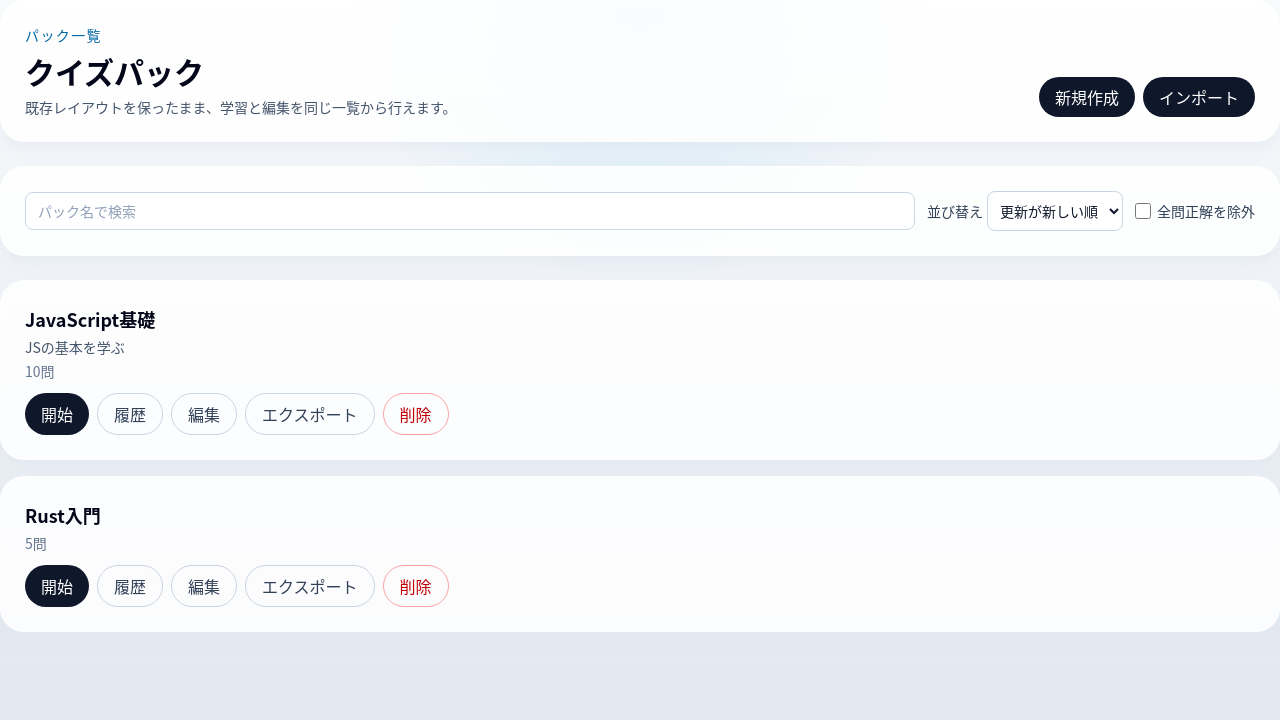
Test: HomePage › インポート機能 › 重複パック検出時に更新確認ダイアログが表示される
Click the button "インポート". click: click(1199, 97)
box: [1143,77,1255,117]
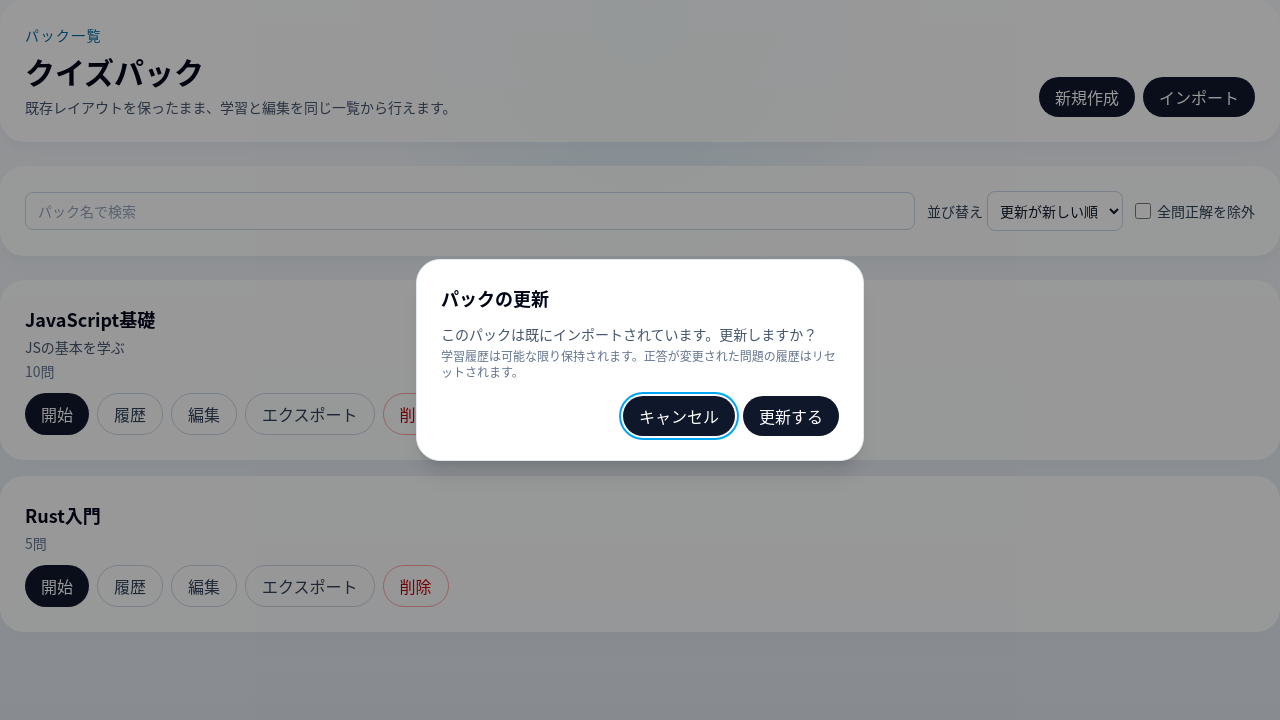
Result: the text "このパックは既にインポートされています。更新しますか？" is shown at [441,324,839,344]
